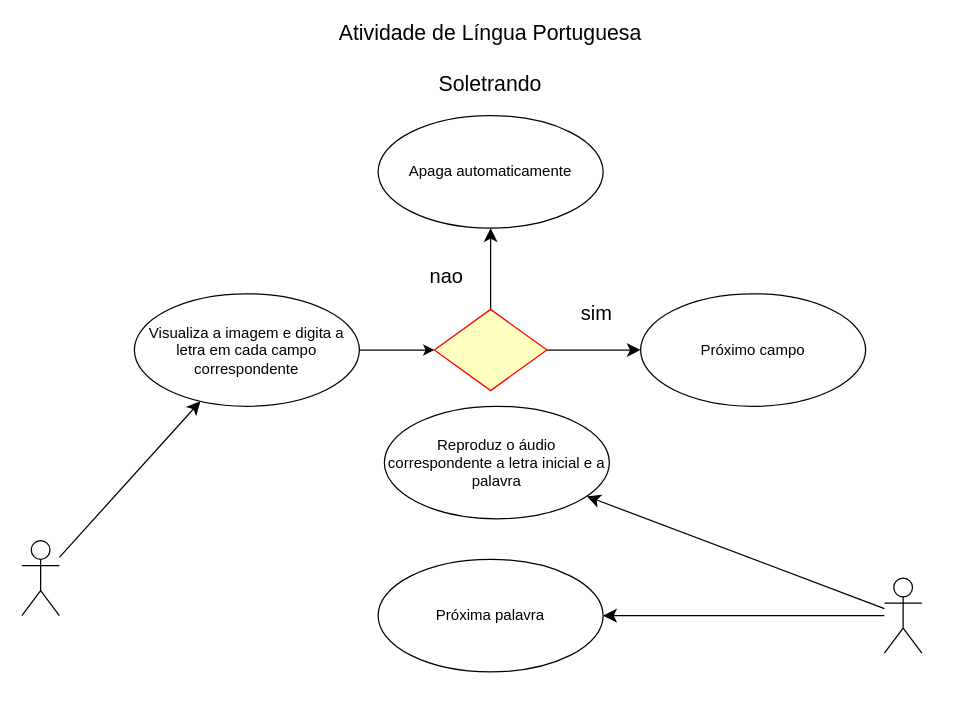
The diagram is 956 pixels wide and 701 high, and some of its shapes have lost their labels. Here are the shapes that lost their labels. From the top down, the centre of each, then its label:
At (490,349): "Letra correta?".
At (40,577): "Aluno".
At (902,615): "Professor".
